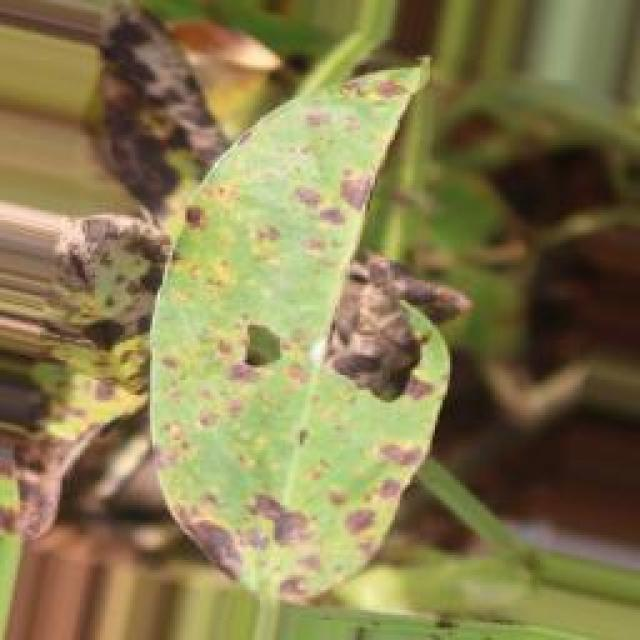Yellowish: (64, 56, 471, 578)
